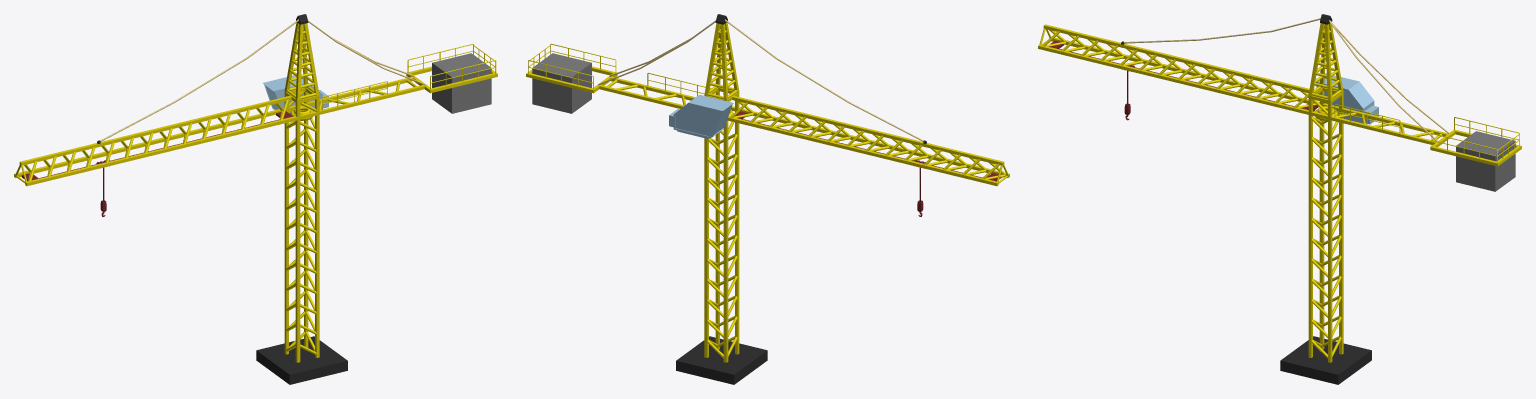
The model's file is Crate.fbx.
3 renders of one model, left to right at view 1: azimuth 30°, elevation 25°; view 2: azimuth 150°, elevation 25°; view 3: azimuth 330°, elevation 25°, orthographic.
Visible parts, largest first — view 1: Cylinder.154, Base, Cube.007, Cube.009, Cube.004, Cube.010, Cube.003, Cube.006, Cube.005, Cube.030, Cable Superior, Cable Superior.001; view 2: Cylinder.154, Base, Cube.030, Cube.009, Cube.006, Cube.010, Cube.007, Cube.004, Cube.005, Cube.003, Cable Superior, Cable Superior.001; view 3: Cylinder.154, Base, Cube.007, Cube.009, Cube.010, Cube.030, Cube.003, Cube.004, Cube.005, Cube.006, Cable Superior.001, Cable Superior.
Part boxes in pixels (x1,y1,x2,y2): Cylinder.154: (432, 53, 491, 113); Base: (256, 336, 347, 384); Cube.007: (25, 85, 424, 186); Cube.009: (14, 77, 413, 177); Cube.004: (295, 119, 300, 362); Cube.010: (19, 96, 291, 165); Cube.003: (315, 115, 319, 357); Cube.006: (284, 111, 288, 354); Cube.005: (304, 120, 308, 347); Cube.030: (263, 75, 328, 113); Cable Superior: (100, 19, 298, 141); Cable Superior.001: (308, 20, 425, 85); Cylinder.154: (532, 53, 591, 113); Base: (676, 336, 767, 384); Cube.030: (669, 94, 733, 138); Cube.009: (599, 85, 998, 186); Cube.006: (723, 120, 728, 362); Cube.010: (732, 96, 1004, 165); Cube.007: (610, 77, 1009, 177); Cube.004: (735, 111, 739, 354); Cube.005: (704, 138, 708, 357); Cube.003: (715, 132, 719, 349); Cable Superior: (725, 19, 923, 141); Cable Superior.001: (598, 20, 715, 85); Cylinder.154: (1456, 131, 1515, 191); Base: (1280, 336, 1371, 384); Cube.007: (1038, 45, 1436, 144); Cube.009: (1049, 36, 1447, 136); Cube.010: (1043, 24, 1309, 92); Cube.030: (1316, 73, 1378, 124); Cube.003: (1328, 119, 1332, 362); Cube.004: (1308, 115, 1312, 357); Cube.005: (1339, 111, 1343, 354); Cube.006: (1319, 120, 1324, 349); Cable Superior.001: (1329, 20, 1449, 142); Cable Superior: (1123, 18, 1320, 43).
Size of the model in its own units: 4808 by 3458 by 645.
